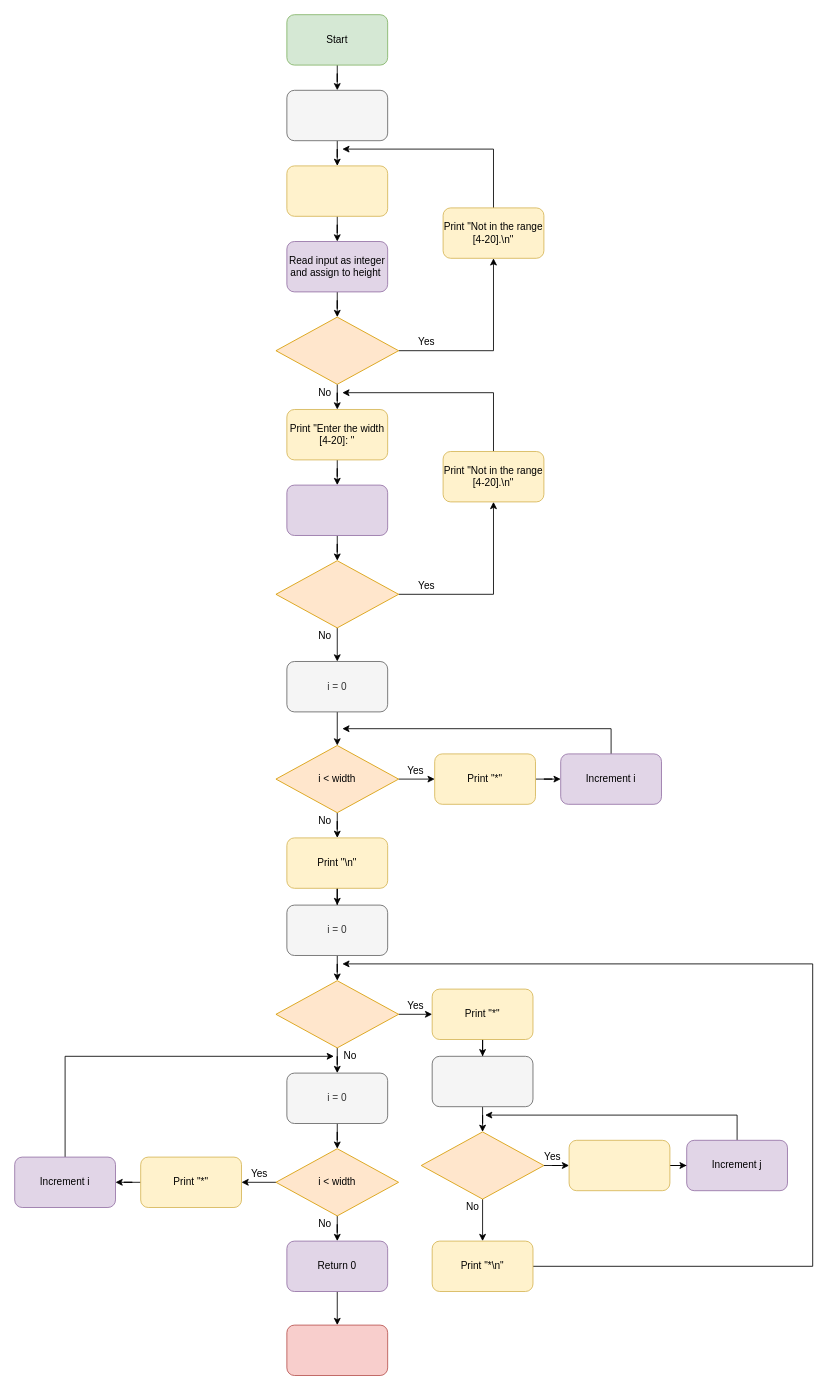
Some shapes in this 834 by 1390 pixel diagram are drawn without their labels. The box of each missing label's shape, as (x1, y1, x2, y2) in pixels:
End: (286, 1324, 388, 1376)
height < 4 or height > 20: (275, 316, 399, 384)
i < height - 2: (275, 980, 399, 1048)
j < width - 2: (420, 1131, 544, 1199)
j = 0: (431, 1055, 533, 1107)
Print " ": (568, 1139, 670, 1191)
Print "Enter the height [4-20]: ": (286, 165, 388, 216)
Read input as integer and assign to width: (286, 484, 388, 536)
width < 4 or width > 20: (275, 560, 399, 628)
width = 0 height = 0: (286, 89, 388, 141)
